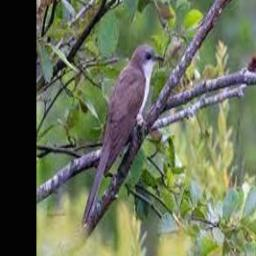Cuckoo: (81, 45, 163, 226)
